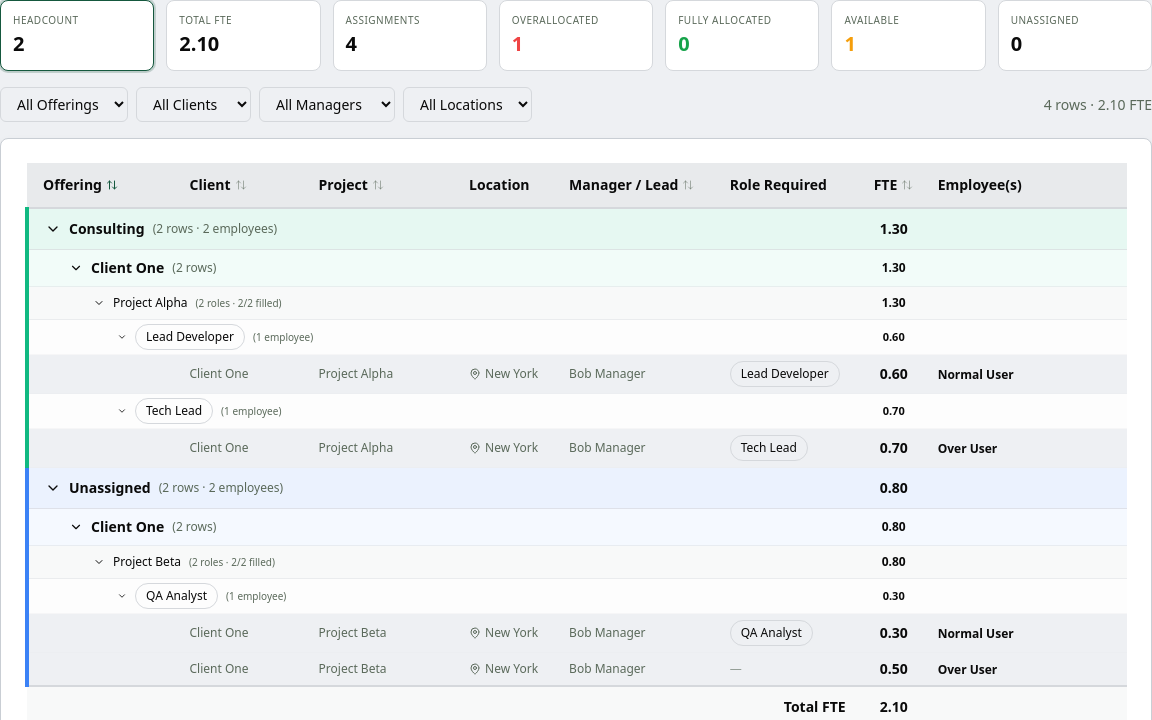
Test: StaffingMatrix › filters by capacity when clicking metric cards
# Click "Overallocated" metric
Click the button "Overallocated 1" at (576, 36), box 499,0 -> 653,71
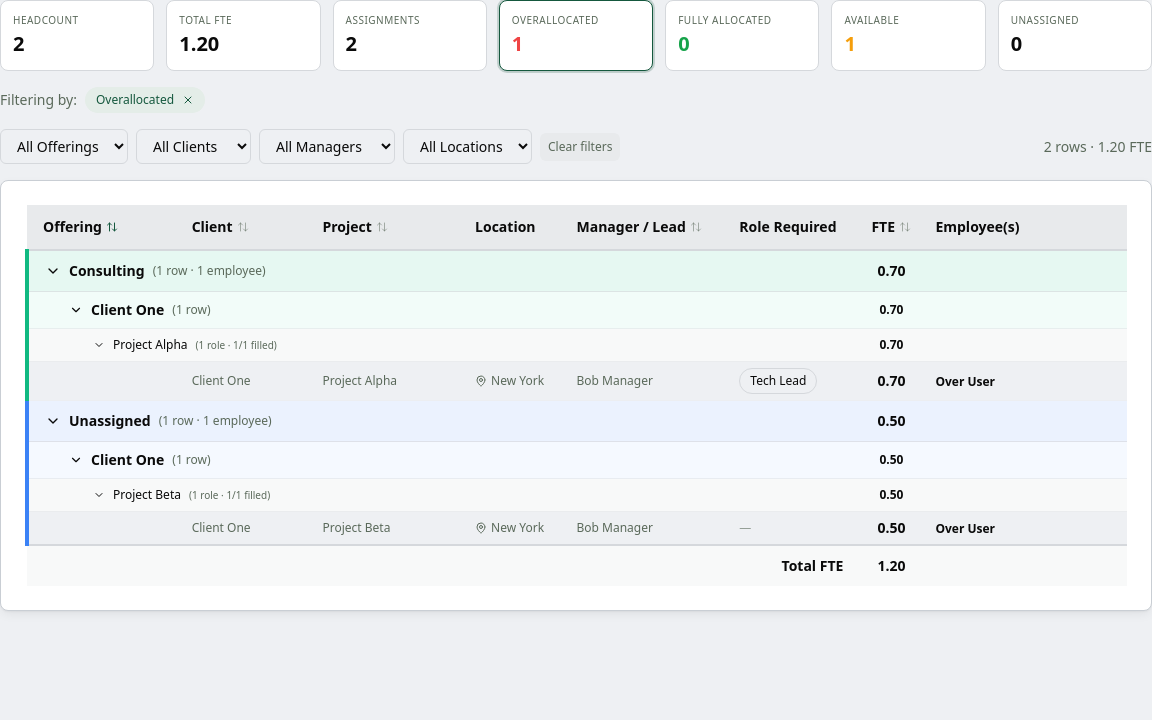
expect the text "Filtering by:" is shown: met, box 0,90 -> 77,110
